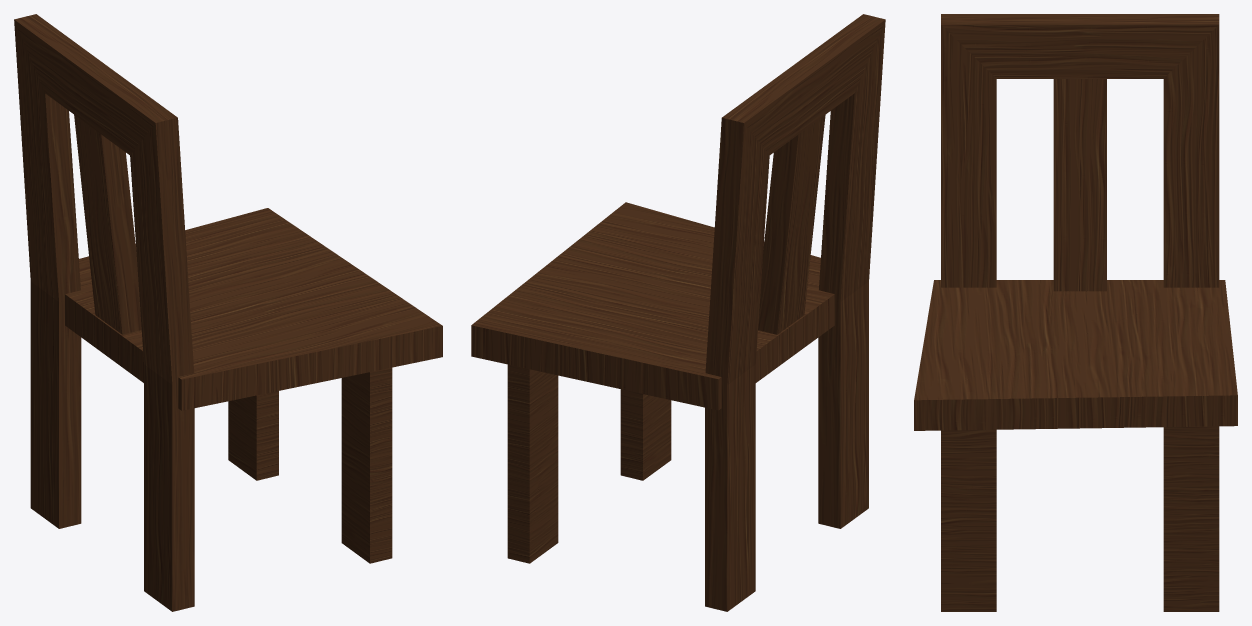
The model's file is Chair.fbx.
The picture shows the model from 3 angles, left to right: view 1: azimuth 30°, elevation 25°; view 2: azimuth 150°, elevation 25°; view 3: azimuth 270°, elevation 25°; orthographic projection.
Visible parts, largest first — view 1: Midnight_Antics_House_Build_V1.008; view 2: Midnight_Antics_House_Build_V1.008; view 3: Midnight_Antics_House_Build_V1.008.
Boxes of the visible parts, bbox=[...] form: Midnight_Antics_House_Build_V1.008: bbox=[14, 14, 442, 611]; Midnight_Antics_House_Build_V1.008: bbox=[471, 14, 885, 611]; Midnight_Antics_House_Build_V1.008: bbox=[914, 14, 1237, 611].
Bounding box in the file's own units: 9085 × 15645 × 9476.
